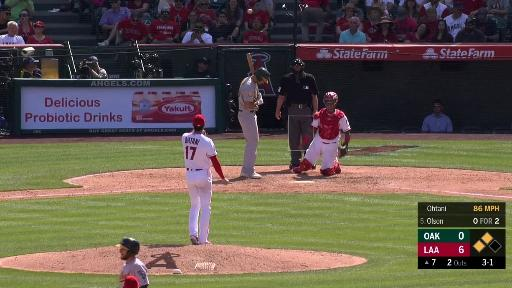pitcher: (182, 114, 230, 246)
